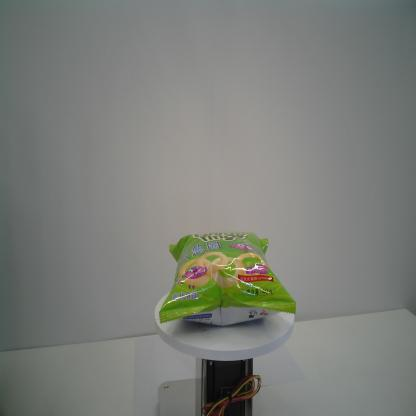Puffed Food: (158, 231, 296, 327)
